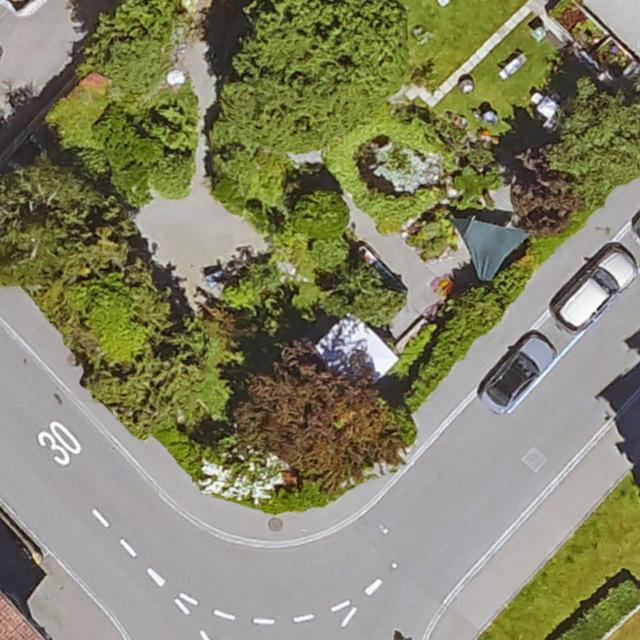tree: (228, 0, 407, 140), (234, 349, 404, 495), (0, 162, 126, 293), (549, 85, 640, 195), (85, 0, 177, 93), (510, 157, 582, 233), (221, 262, 286, 324), (287, 191, 350, 251)
